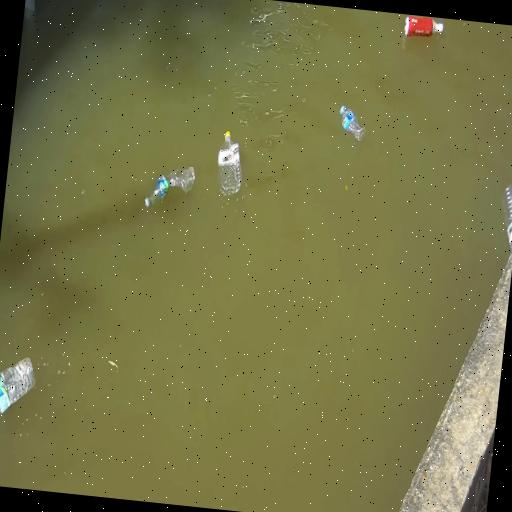plastic: (145, 167, 195, 207), (0, 359, 35, 413), (218, 131, 242, 196), (340, 106, 365, 141), (404, 17, 443, 36), (503, 185, 511, 249)
